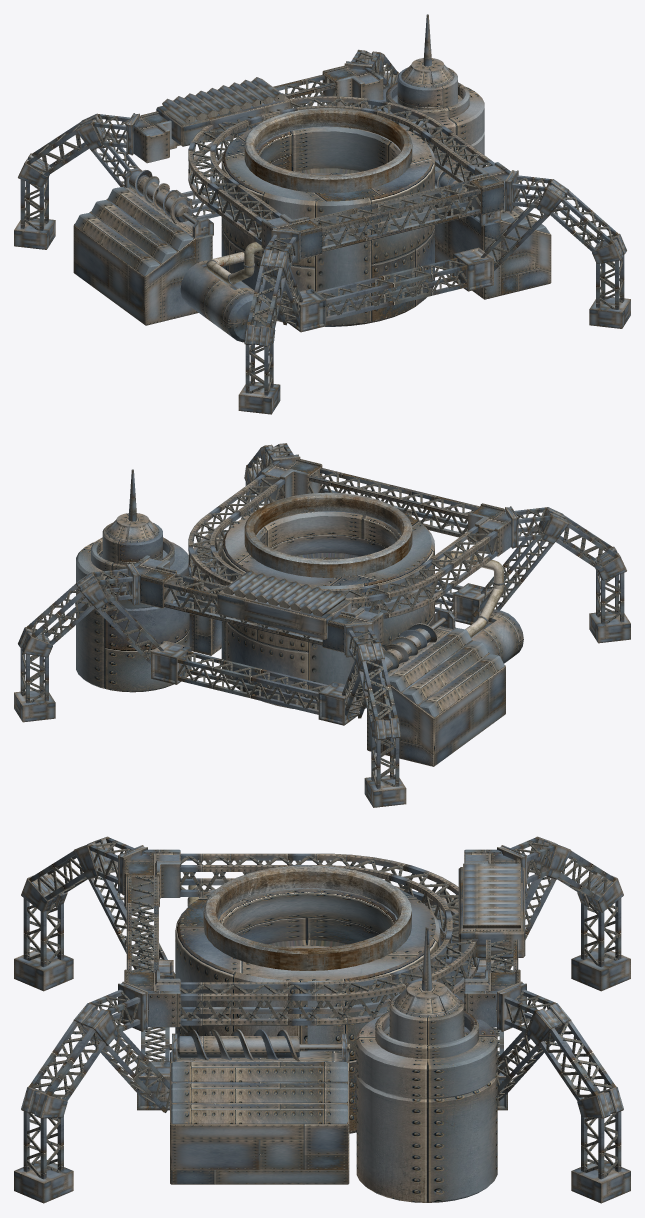
Rendered from static1.fbx.
The picture shows the model from 3 angles, top to bottom: view 1: azimuth 30°, elevation 25°; view 2: azimuth 150°, elevation 25°; view 3: azimuth 270°, elevation 25°; orthographic projection. The views are drawn at different scales.
Parts seen in each view (by area): view 1: Cylinder_Cylinder, Cube_Cube, Tube_2, Boole_1_Cube, Cube_Cube_2, Boole, Cube_121, Cube_56, Cube_1_28, Cube_1_14, Cube, Cube_1_140 (+28 smaller); view 2: Cylinder_Cylinder, Cube_Cube, Cylinder_2_2, Tube_2, Boole_1_Cube, Cube_56, Cube_121, Cube, Cube_1_14, Cube_1_140, Cube_1_138, Cube_1_28 (+31 smaller); view 3: Cylinder_Cylinder, Cylinder_2_2, Cube_Cube_2, Tube_2, Boole_1_Cube, Cube_121, Cylinder_3_2, Cube_1_14, Plane_0_3, Plane_2_3, Cube_1_138, Cube_1_28 (+30 smaller).
Boxes of the visible parts, <box> form: Cylinder_Cylinder: <box>221,126,434,326</box>; Cube_Cube: <box>73,186,212,325</box>; Tube_2: <box>244,108,412,193</box>; Boole_1_Cube: <box>133,65,510,259</box>; Cube_Cube_2: <box>435,186,551,299</box>; Boole: <box>180,260,269,342</box>; Cube_121: <box>14,217,630,414</box>; Cube_56: <box>175,190,493,332</box>; Cube_1_28: <box>210,105,475,218</box>; Cube_1_14: <box>188,96,494,225</box>; Cube: <box>156,96,290,146</box>; Cube_1_140: <box>76,49,568,279</box>; Cylinder_Cylinder: <box>221,511,434,709</box>; Cube_Cube: <box>367,626,505,766</box>; Cylinder_2_2: <box>76,589,189,692</box>; Tube_2: <box>244,492,412,577</box>; Boole_1_Cube: <box>134,458,511,652</box>; Cube_56: <box>151,583,492,725</box>; Cube_121: <box>14,610,630,807</box>; Cube: <box>217,590,351,639</box>; Cube_1_14: <box>188,474,497,603</box>; Cube_1_140: <box>76,443,568,673</box>; Cube_1_138: <box>18,464,626,739</box>; Cube_1_28: <box>210,479,478,594</box>; Cylinder_Cylinder: <box>175,888,440,1133</box>; Cylinder_2_2: <box>356,1072,497,1202</box>; Cube_Cube_2: <box>170,1051,349,1184</box>; Tube_2: <box>203,865,411,970</box>; Boole_1_Cube: <box>124,849,520,1027</box>; Cube_121: <box>14,947,630,1203</box>; Cylinder_3_2: <box>356,1016,497,1099</box>; Cube_1_14: <box>180,853,477,1000</box>; Plane_0_3: <box>171,1062,347,1082</box>; Plane_2_3: <box>171,1104,347,1124</box>; Cube_1_138: <box>21,873,623,1118</box>; Cube_1_28: <box>179,865,452,989</box>.
Size of the model in its own units: 536 by 260 by 588.
Materials: 3 (3 with a texture image).
